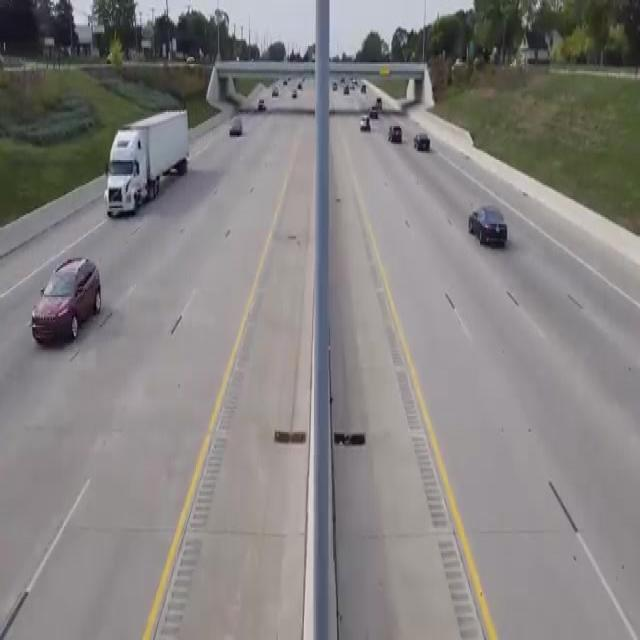car: (42, 246, 107, 356), (464, 192, 514, 257), (224, 112, 252, 145), (384, 122, 406, 146), (359, 114, 376, 141), (252, 92, 268, 116), (368, 101, 384, 116)
truck: (112, 106, 195, 214), (408, 130, 442, 158)
